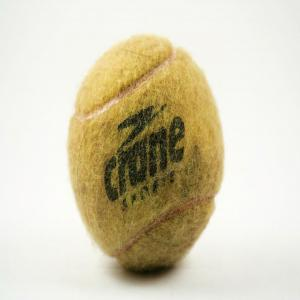TennisBall: (67, 35, 224, 271)
